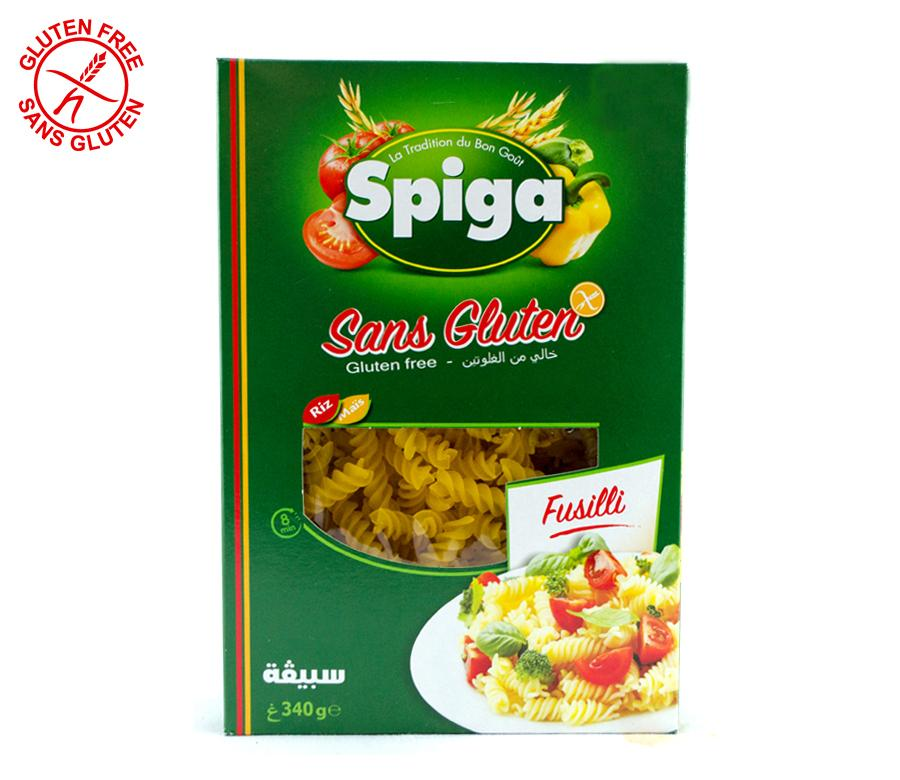Ressort: (219, 57, 670, 733)
